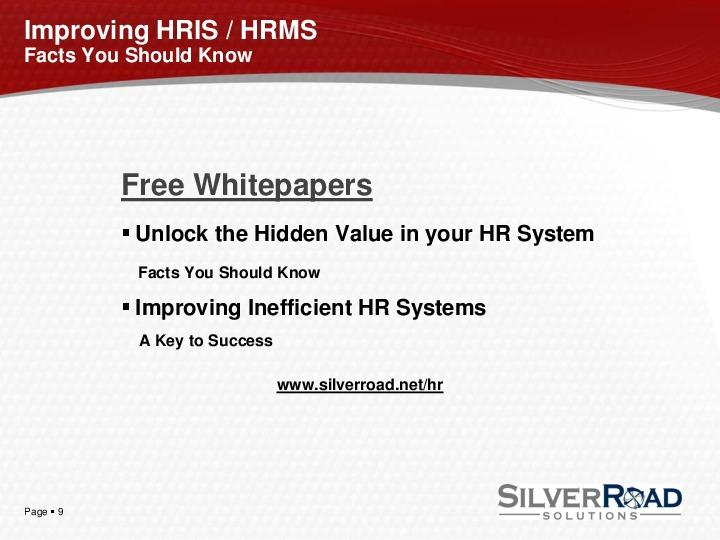paragraph: (97, 208, 620, 366)
subtitle: (111, 161, 386, 209)
title: (15, 8, 338, 77)
